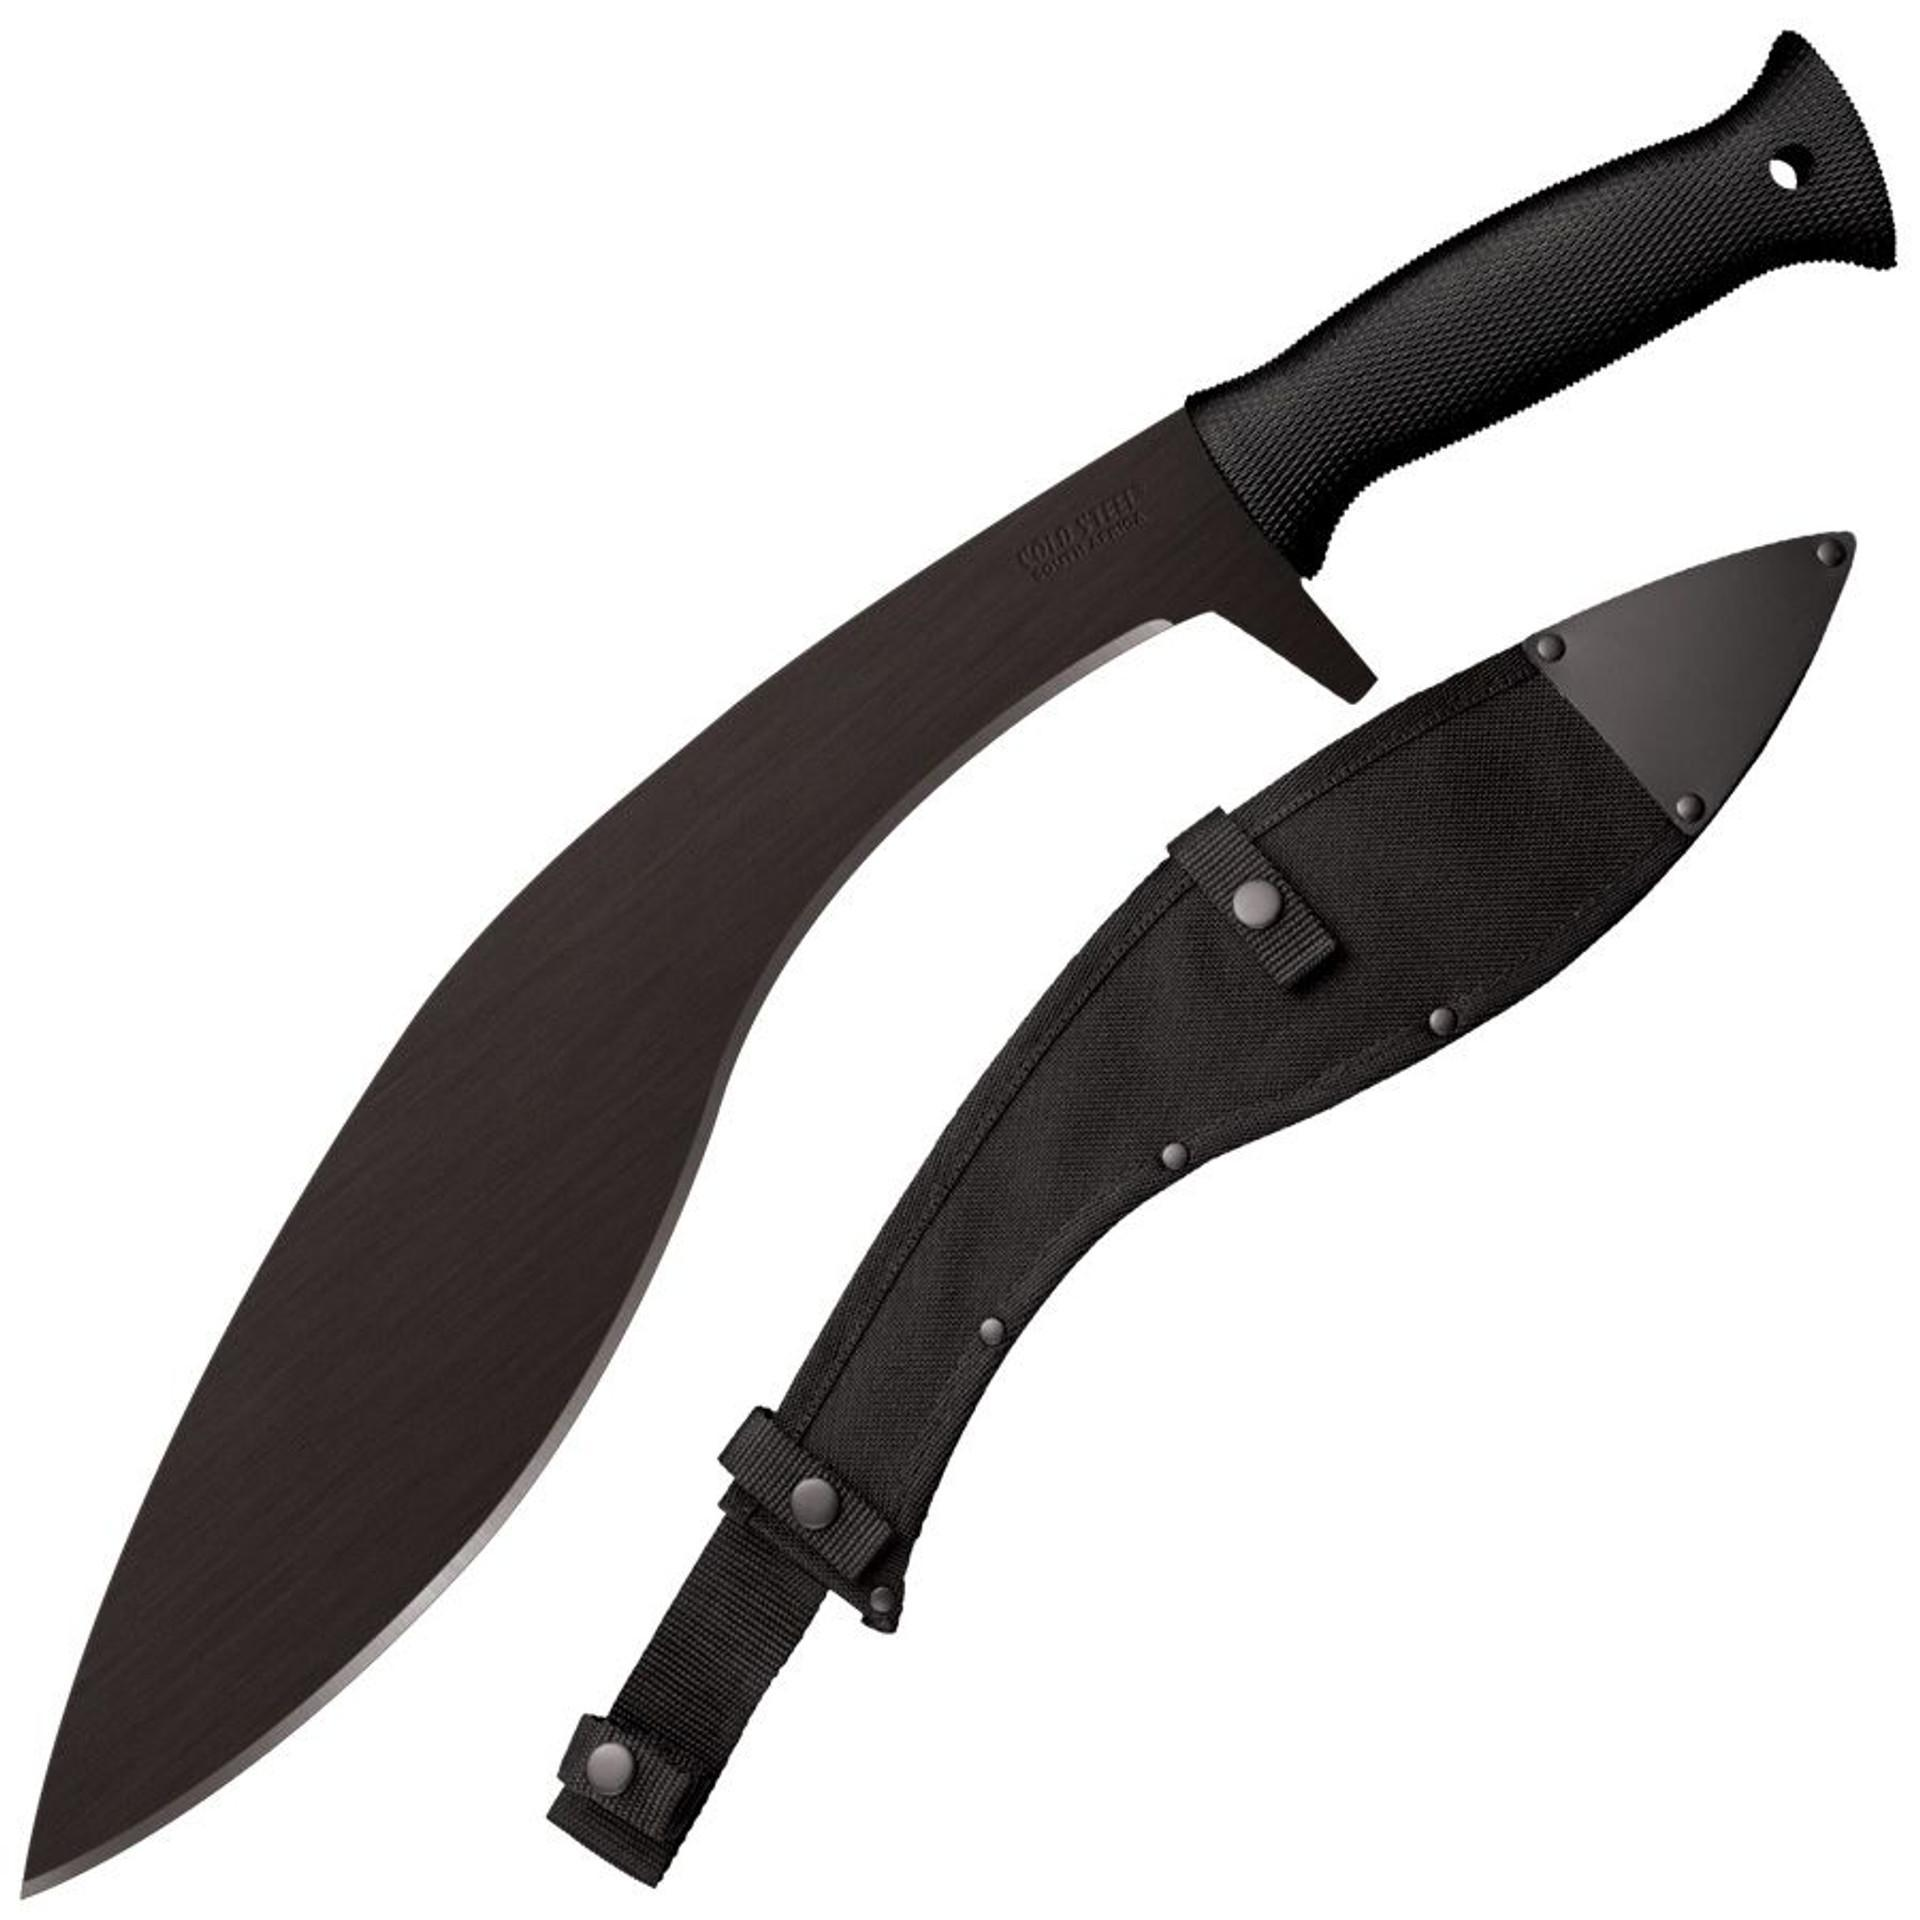facao: (0, 0, 1920, 1895), (587, 462, 1857, 1698)
